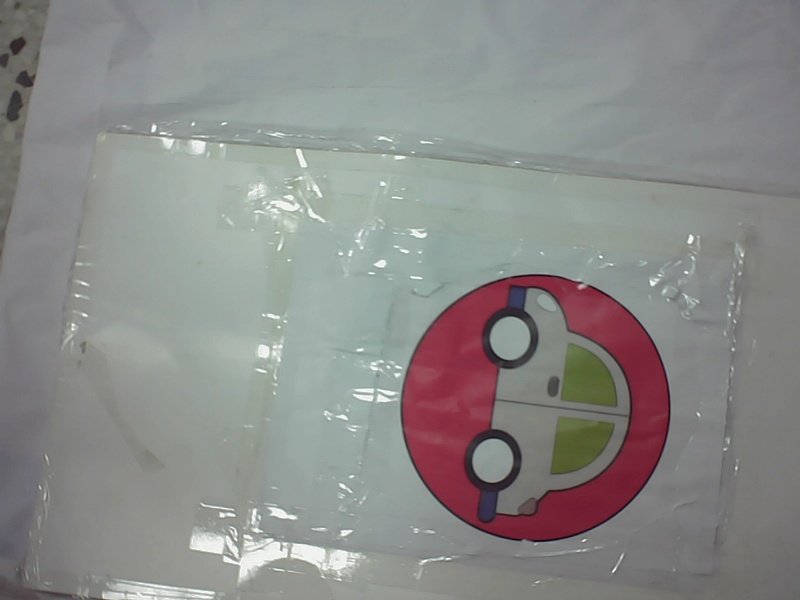areaC: (386, 263, 681, 552)
